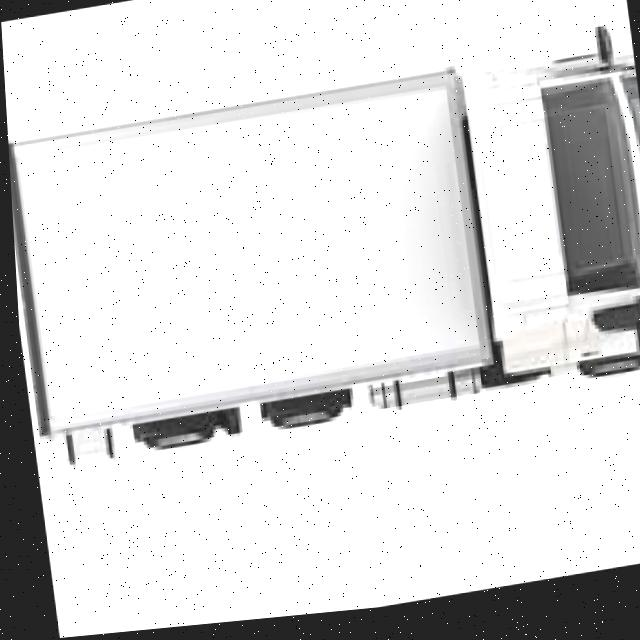truck: (4, 47, 640, 469)
